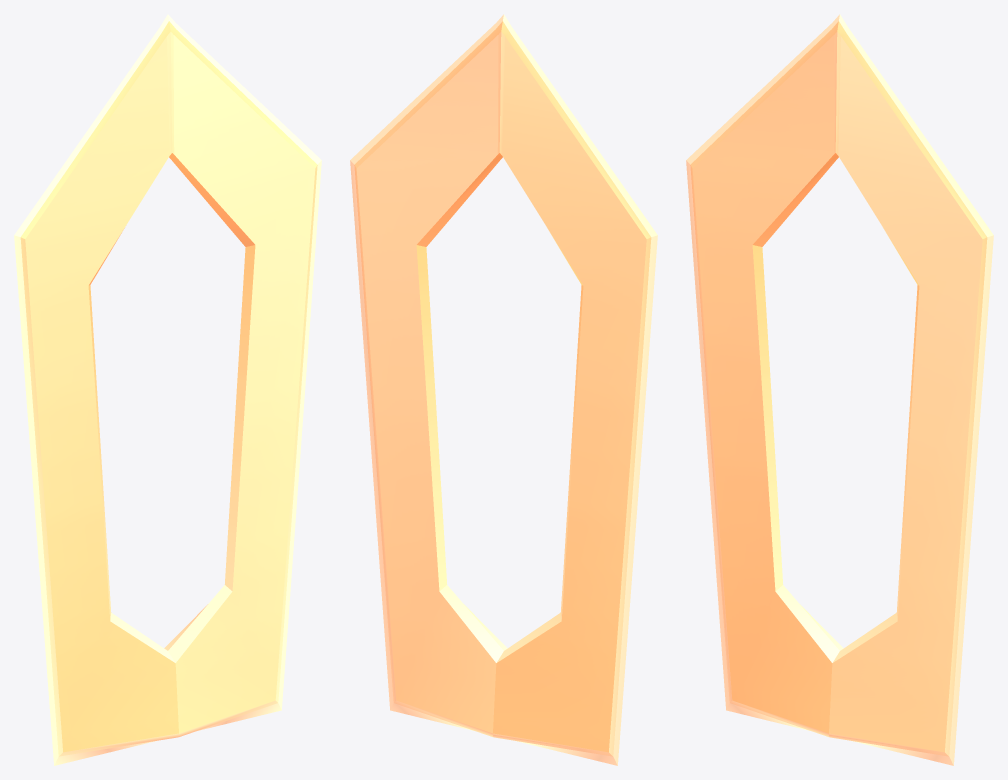
Rendered from wood_blade (18).glb.
The picture shows the model from 3 angles, left to right: view 1: azimuth 30°, elevation 25°; view 2: azimuth 150°, elevation 25°; view 3: azimuth 330°, elevation 25°; orthographic projection.
Parts seen in each view (by area): view 1: wood_blade_steel.068; view 2: wood_blade_steel.068; view 3: wood_blade_steel.068.
Boxes of the visible parts, x1=… form: wood_blade_steel.068: x1=14, y1=14, x2=321, y2=765; wood_blade_steel.068: x1=350, y1=14, x2=657, y2=765; wood_blade_steel.068: x1=686, y1=14, x2=993, y2=765.
Size of the model in its own units: 5.08 by 11.42 by 0.6326.
Materials: 1 (1 with a texture image).
